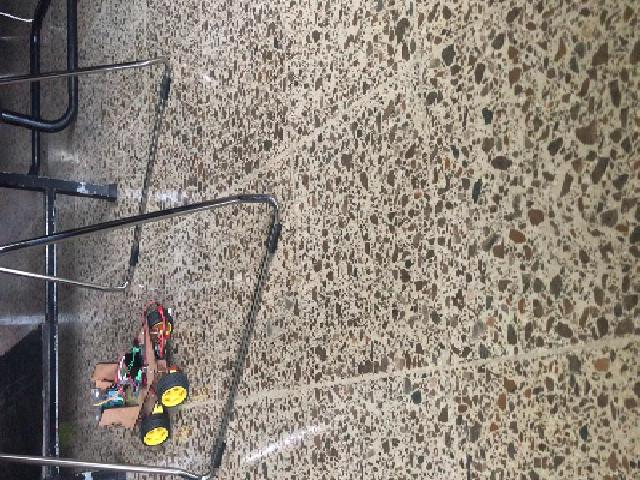Robot: (94, 312, 186, 445)
